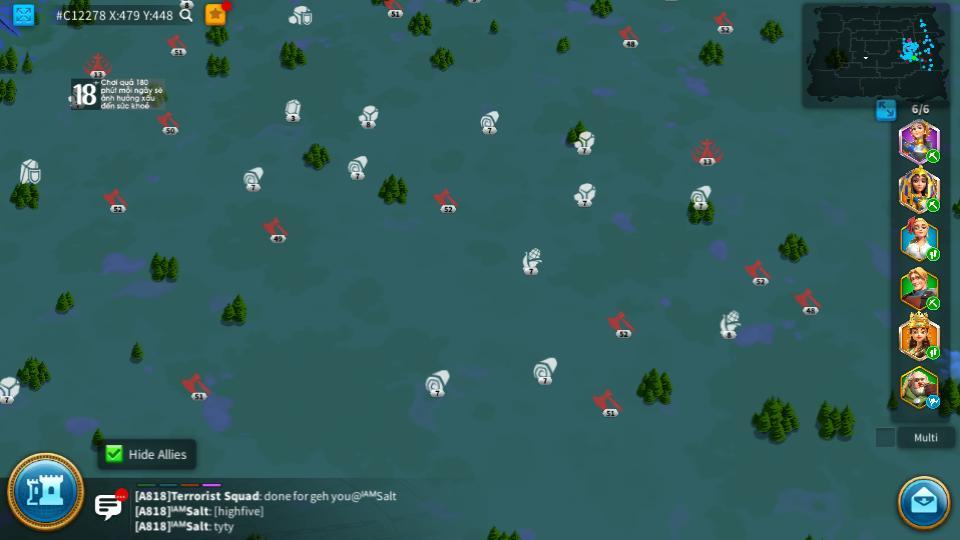gem-z-out: (284, 98, 302, 120)
march_idle: (926, 396, 942, 408)
march_marching: (925, 197, 941, 212), (925, 347, 942, 359), (925, 150, 942, 162), (923, 248, 940, 260), (925, 297, 942, 308)
